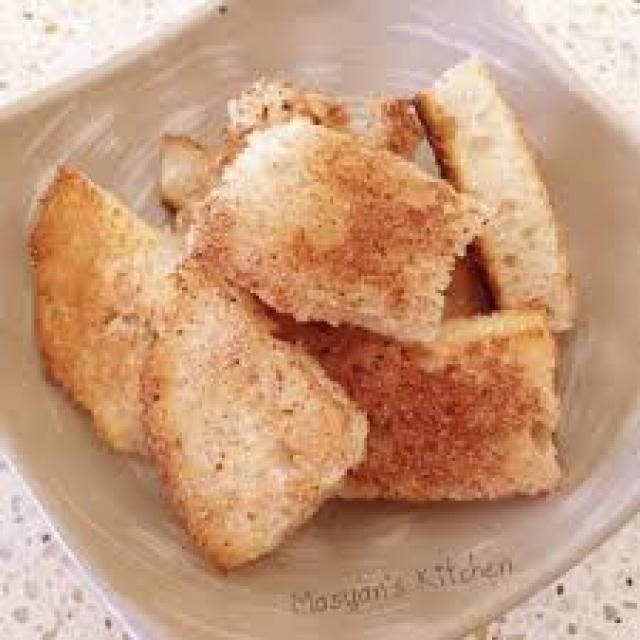organic waste: (136, 259, 367, 572), (185, 108, 486, 341), (267, 302, 564, 504), (413, 48, 583, 333), (29, 159, 180, 461), (222, 74, 344, 131), (367, 91, 424, 159), (154, 134, 210, 202)
